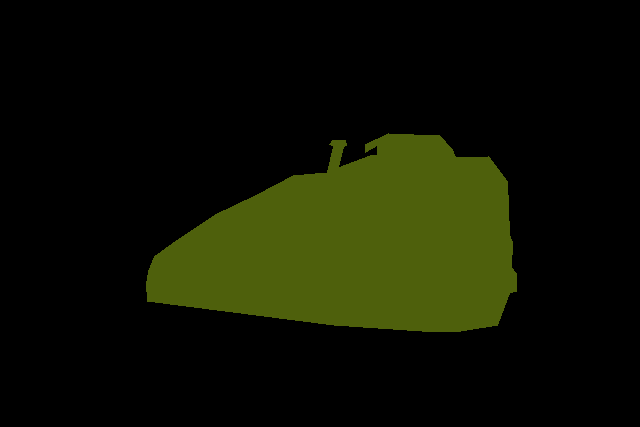Train: (146, 133, 516, 332)
